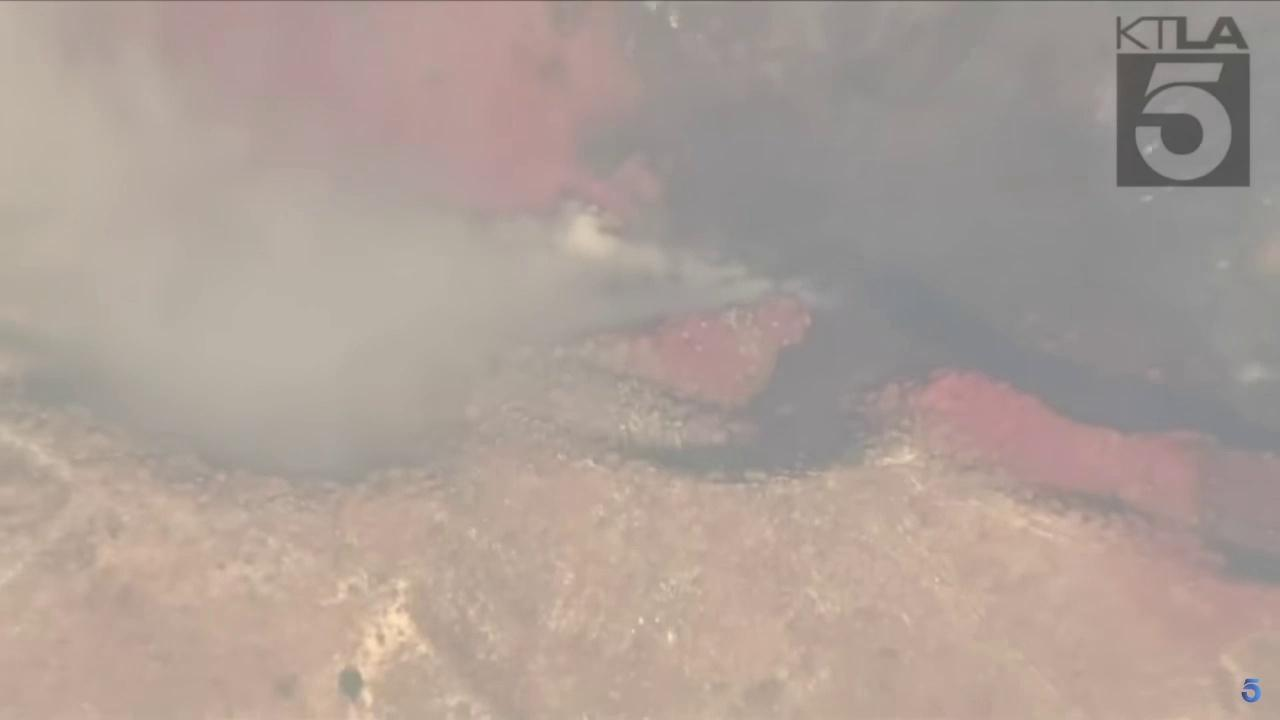smoke: (0, 0, 821, 477)
